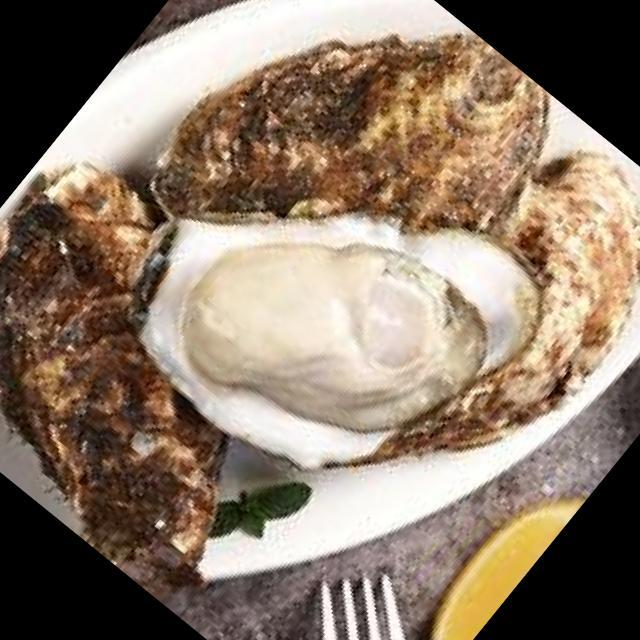Oyster- Indeterminate: (0, 125, 374, 617), (127, 0, 585, 384), (309, 129, 640, 568)
Oyster-Open: (84, 66, 571, 549)
